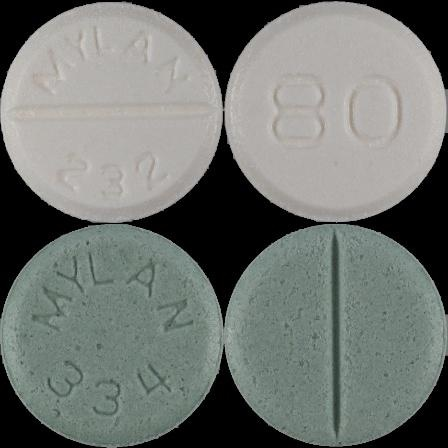53808-0839: (0, 0, 224, 224)
